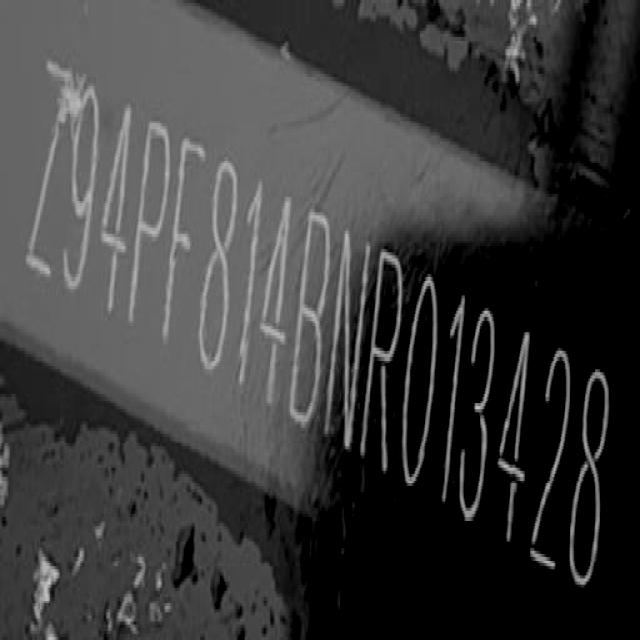0: (391, 259, 448, 503)
1: (430, 284, 472, 515), (229, 165, 269, 393)
2: (523, 332, 581, 578)
3: (453, 295, 503, 532)
4: (486, 310, 543, 555), (88, 88, 144, 330), (250, 178, 304, 421)
8: (188, 150, 247, 389), (561, 349, 614, 599)
9: (55, 75, 108, 315)
B: (284, 195, 338, 438)
F: (155, 126, 212, 365)
N: (319, 213, 377, 459)
P: (124, 111, 178, 349)
R: (357, 236, 408, 476)
Z: (21, 54, 78, 292)
